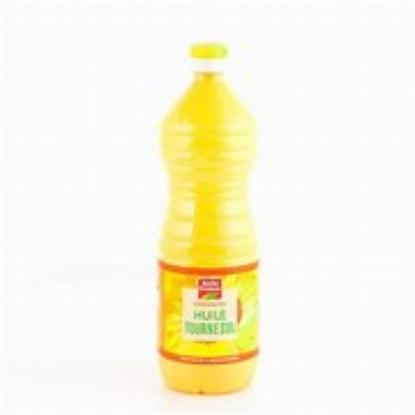Plastic Bottle: (155, 40, 261, 394)
